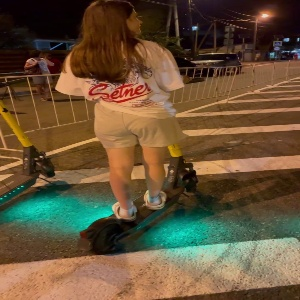human on a scooter: (52, 1, 205, 255)
